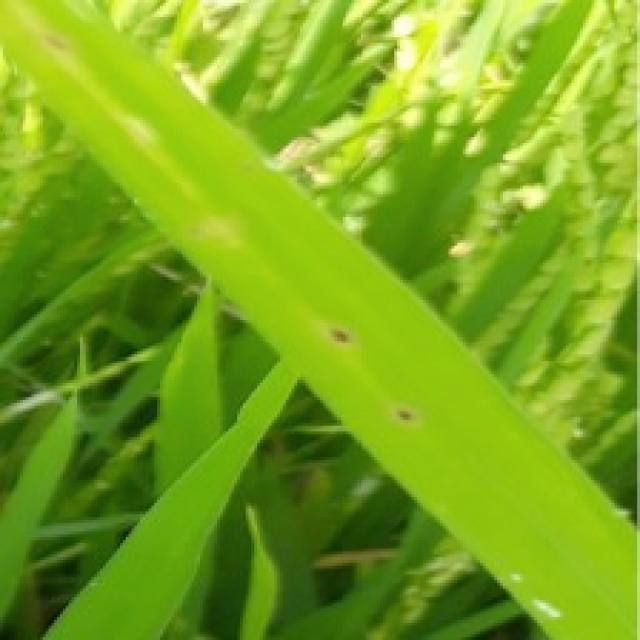Unhealthy: (390, 402, 421, 429), (320, 323, 353, 348), (39, 32, 69, 59)
